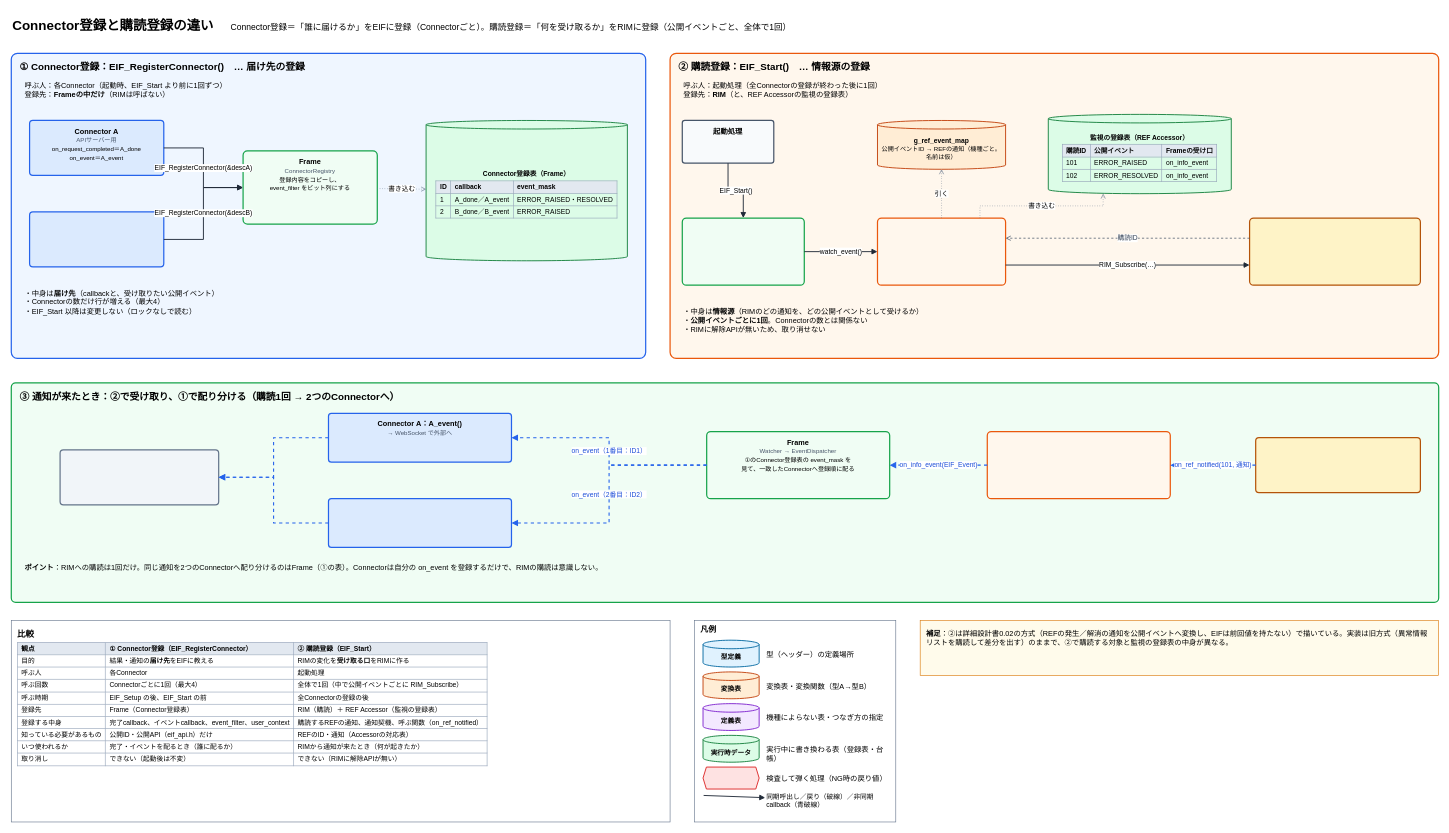
Image size: 1449x833. Some labels were removed from this diagram. The centre of each missing label's shape, as x and y in pixels:
Connector B PCインタフェース用（例） on_request_completed＝B_done on_event＝B_event: the point at 96,239
Connector B：B_event() → PCIFの形式で外部へ: the point at 420,523
Frame Watcher 公開イベントIDを順に見て、 機種が通知するものだけ依頼: the point at 743,251
REF Accessor on_ref_notified(購読ID) ②の監視の登録表で購読ID→受け口を引き、 通知を EIF_Event に変換: the point at 1078,465
REF Accessor watch_event() イベントの対応表で 購読するREFの通知を引く: the point at 941,251
RIM（REF） RIM_Subscribe() 購読ID・対象の通知・通知契機・ 呼ぶ関数（on_ref_notified）を記録: the point at 1335,251
RIM（REF） 通知ワーカー エラー発生（1件）: the point at 1338,465
ガード: the point at 730,777
外部コンポーネント A：APIサーバー／B：PCIF: the point at 139,477
